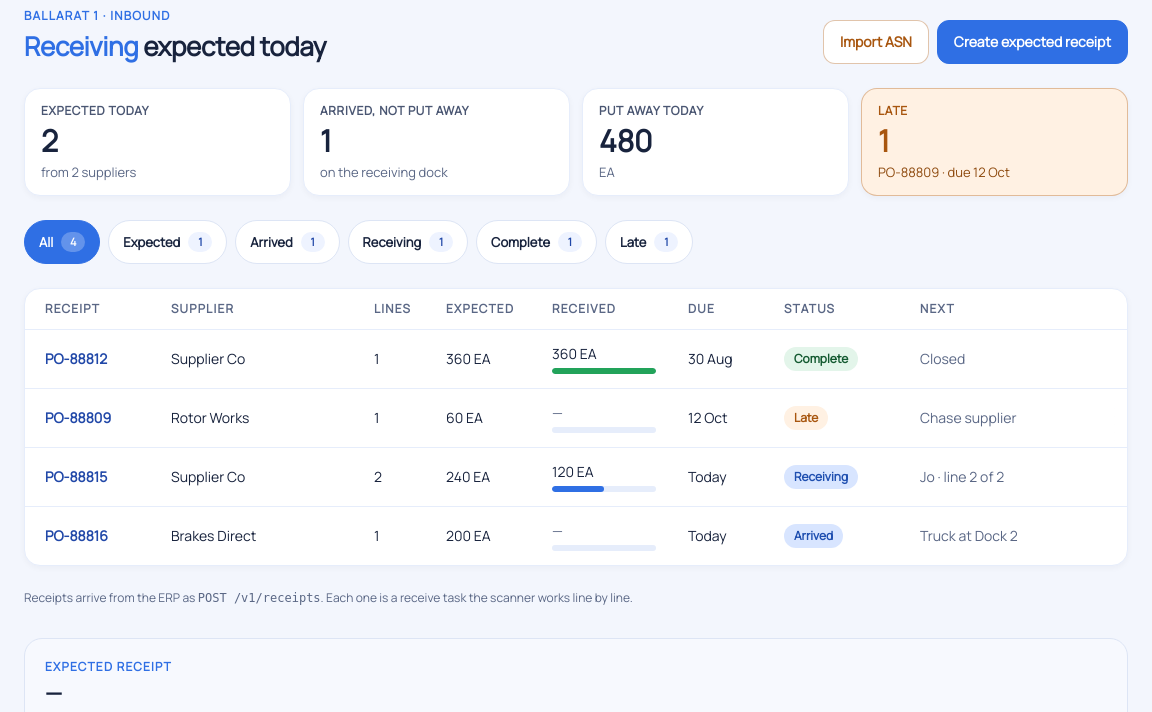
Scenario: Receiving › loads a receipt into the panel with its put-aways
The image size is (1152, 712).
Click the text "PO-88815" at [76, 476], box [45, 467, 107, 486]
(page scrolled)
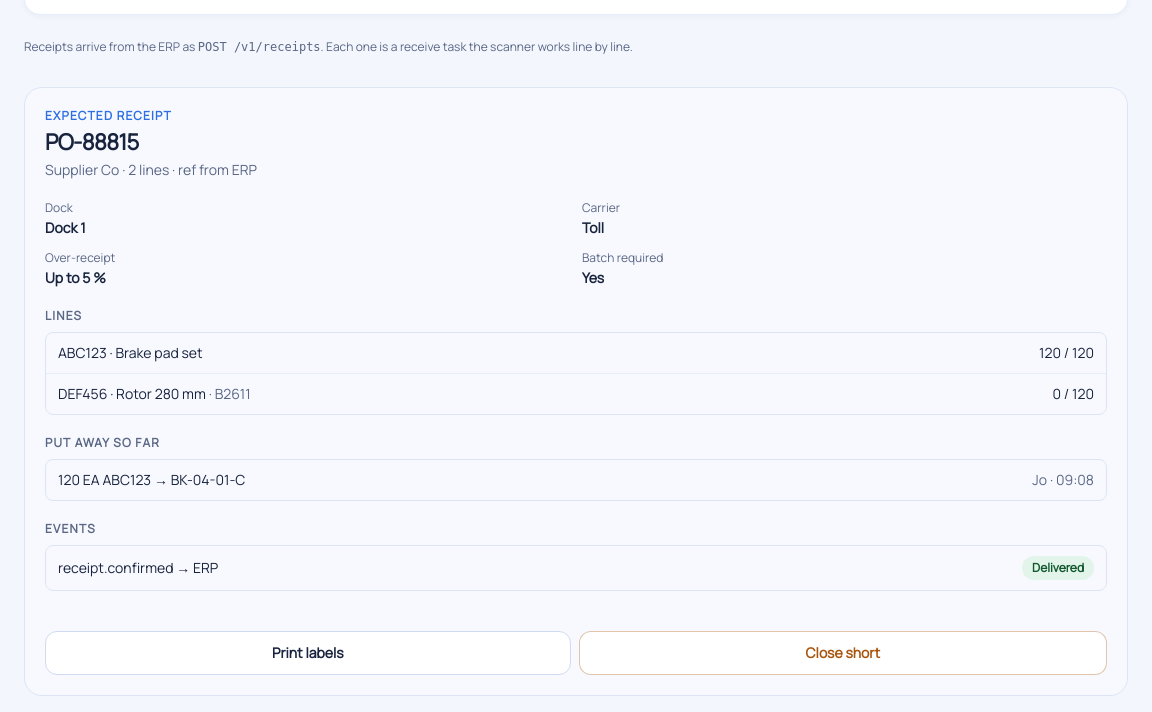
Result: the text "Supplier Co · 2 lines · ref from ERP" is shown at [45, 160, 257, 179]
Result: the text "Up to 5 %" is shown at [45, 268, 106, 287]
Result: the text "Yes" is shown at [582, 268, 604, 287]
